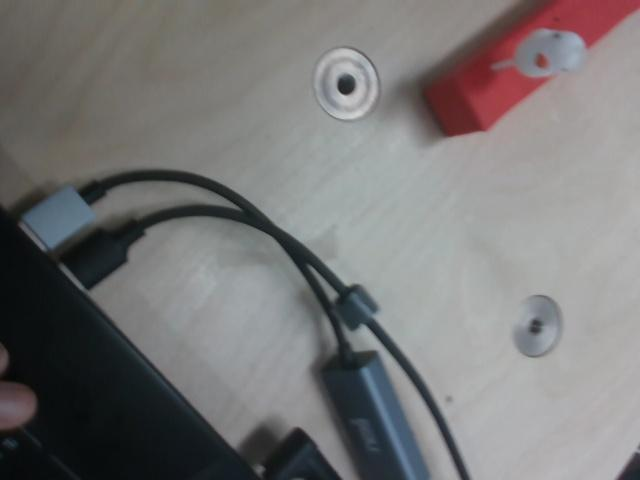w_duck: (484, 16, 595, 89)
